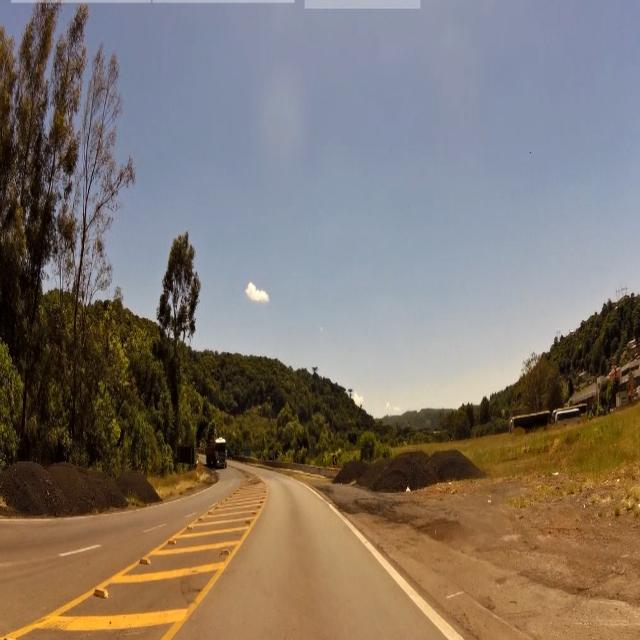Del: (332, 453, 338, 467)
